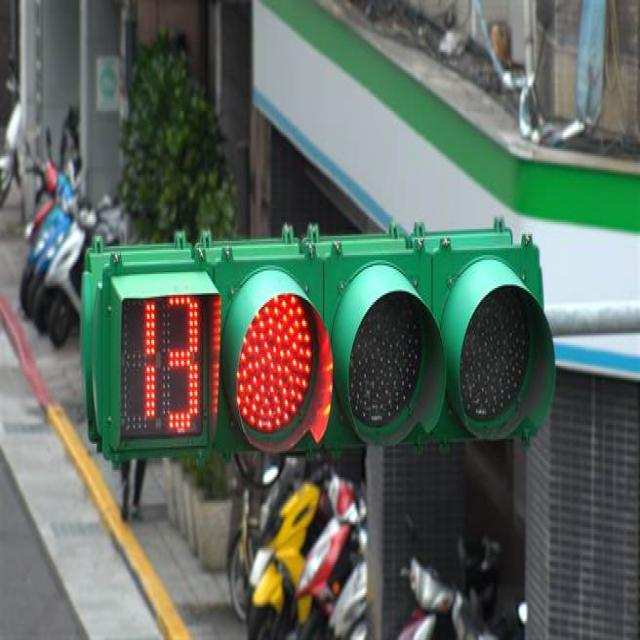red light: (82, 234, 553, 452)
